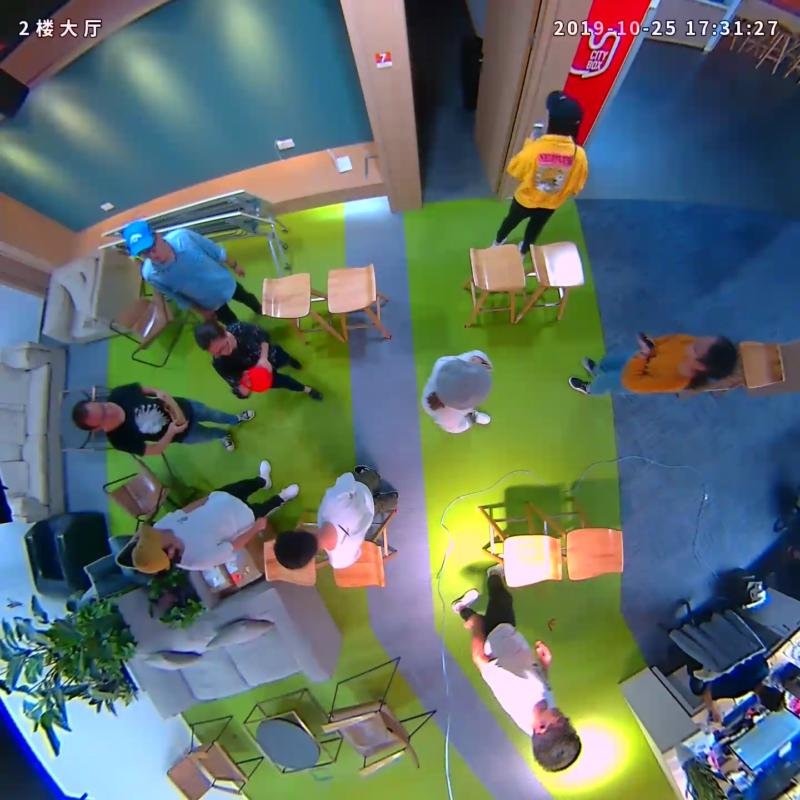head: (531, 705, 583, 772), (433, 358, 492, 409), (681, 334, 738, 379), (130, 521, 176, 575), (122, 219, 167, 264), (272, 529, 318, 569), (545, 90, 584, 131), (69, 399, 120, 430), (192, 319, 233, 357)
